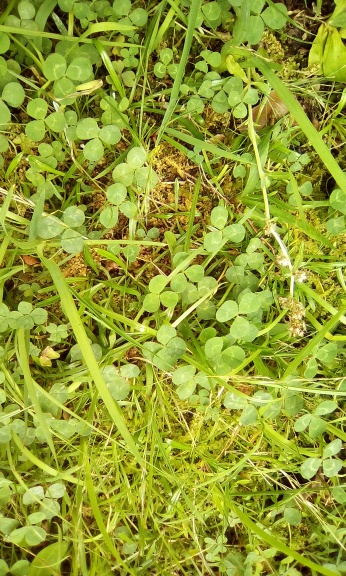4leaf: (141, 324, 187, 370)
